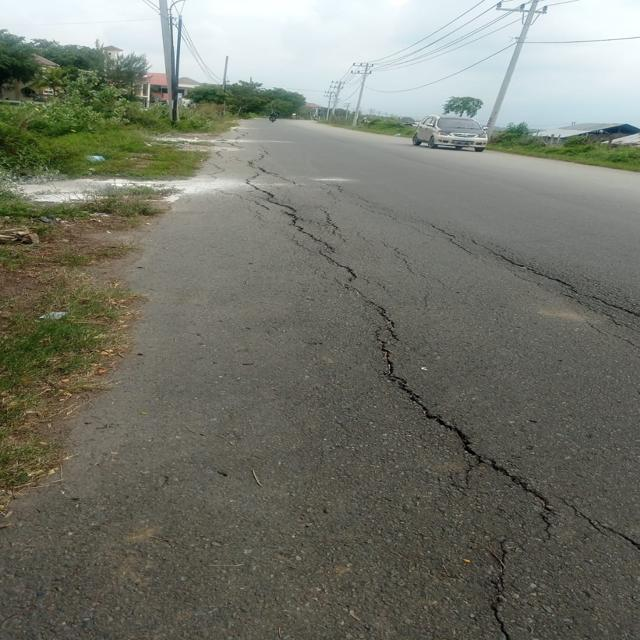Memanjang: (235, 152, 564, 640)
